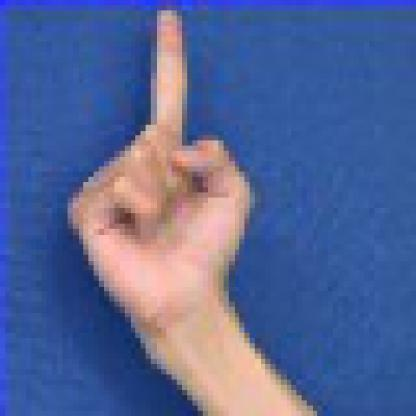one: (61, 1, 270, 357)
